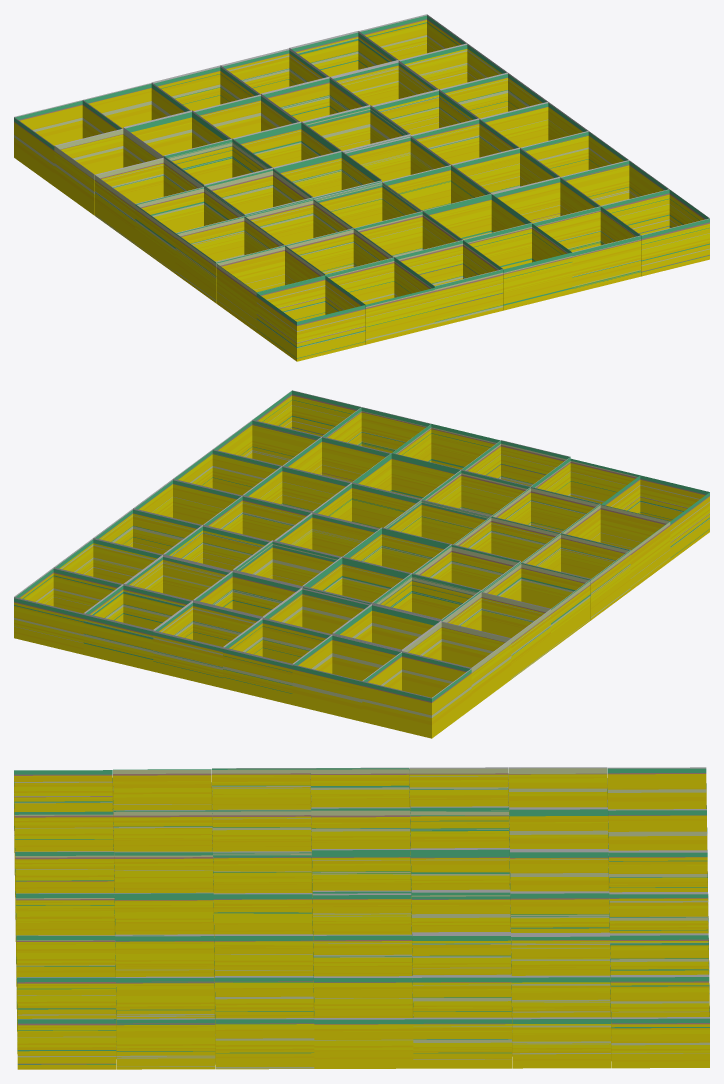
3 views of the same model, one above another, from view 1: azimuth 30°, elevation 25°; view 2: azimuth 150°, elevation 25°; view 3: azimuth 270°, elevation 25° (orthographic). The views are drawn at different scales.
Parts seen in each view (by area): view 1: mesh; view 2: mesh; view 3: mesh.
Boxes of the visible parts, x1,y1,x2,y2 form: mesh: (14, 14, 709, 361); mesh: (14, 390, 709, 738); mesh: (14, 767, 709, 1069).
Size of what is drawn, in the model's own units: 986 by 98 by 1151.
